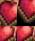heart: (0, 0, 17, 26), (17, 0, 35, 24), (17, 26, 35, 41), (0, 26, 15, 41)
